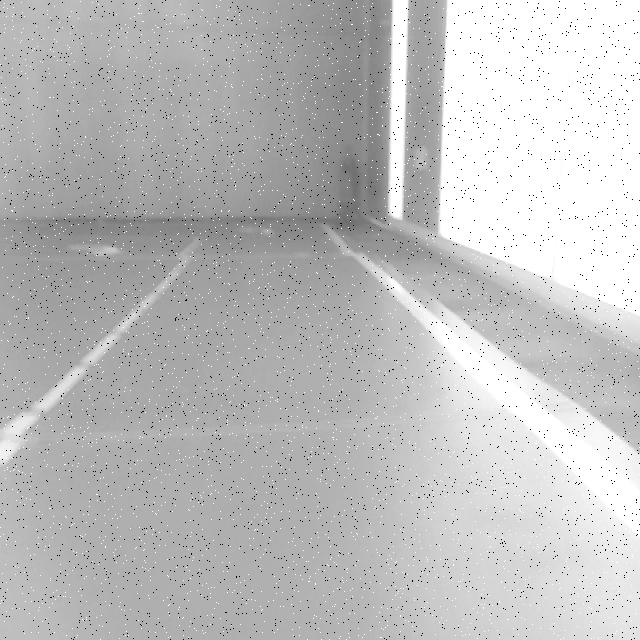left_lane: (0, 239, 202, 469)
right_lane: (329, 227, 640, 538)
